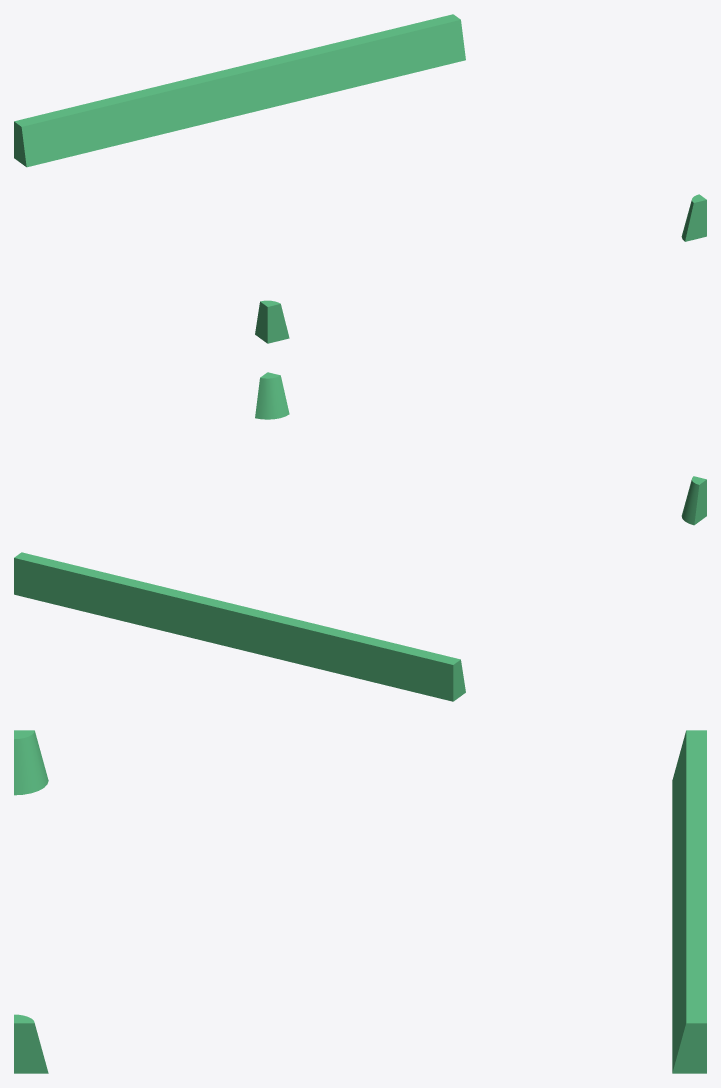
The model's file is road_intersection_barrier.glb.
3 renders of one model, top to bottom at view 1: azimuth 30°, elevation 25°; view 2: azimuth 150°, elevation 25°; view 3: azimuth 270°, elevation 25°, orthographic. The views are drawn at different scales.
Visible parts, largest first — view 1: road-intersection-barrier; view 2: road-intersection-barrier; view 3: road-intersection-barrier.
Boxes of the visible parts, x1=… form: road-intersection-barrier: x1=14, y1=14, x2=706, y2=343; road-intersection-barrier: x1=14, y1=372, x2=706, y2=701; road-intersection-barrier: x1=14, y1=730, x2=706, y2=1073.
Bounding box in the file's own units: 1 × 0.08 × 1.
Materials: 1 (1 with a texture image).
